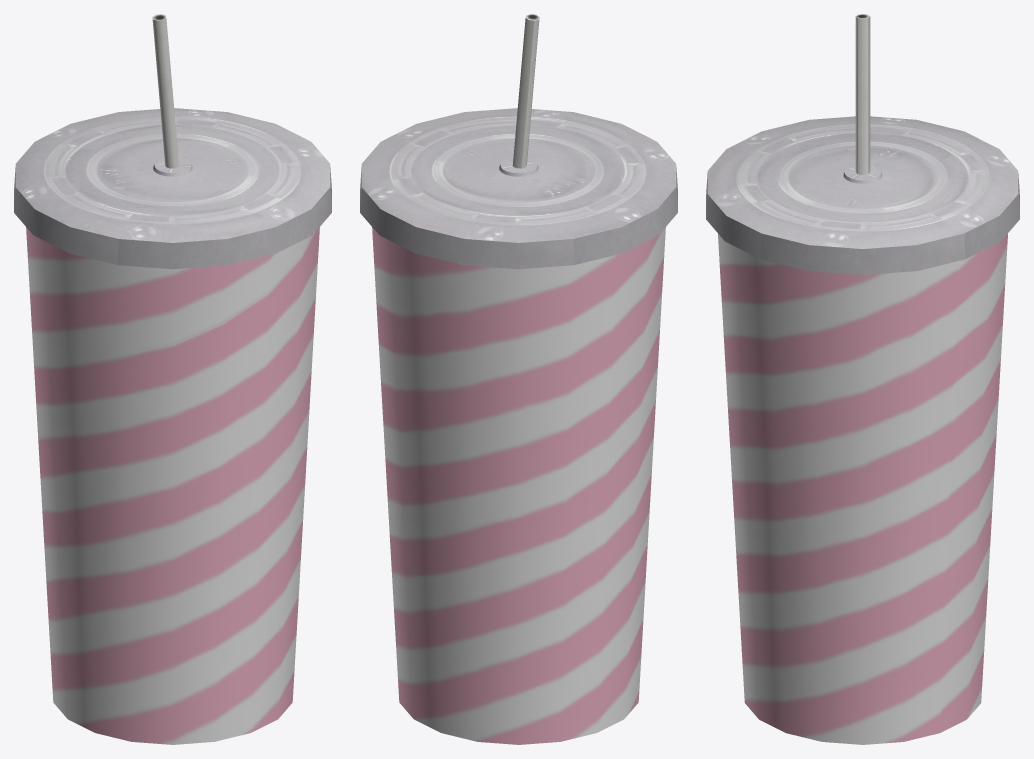
Rendered from plastic.gltf.
3 renders of one model, left to right at view 1: azimuth 30°, elevation 25°; view 2: azimuth 150°, elevation 25°; view 3: azimuth 270°, elevation 25°, orthographic.
Visible parts, largest first — view 1: Cup_1; view 2: Cup_1; view 3: Cup_1.
Part boxes in pixels (x1,y1,x2,y2): Cup_1: (14,14,331,744); Cup_1: (360,14,677,744); Cup_1: (706,14,1019,744).
Bounding box in the file's own units: 0.1122 × 0.2609 × 0.1105.
Materials: 1 (1 with a texture image).
